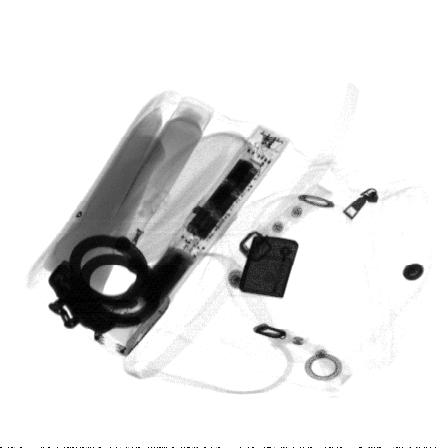Baton: (94, 125, 289, 355)
HandCuffs: (45, 233, 161, 335)
Lighter: (238, 235, 299, 298)
